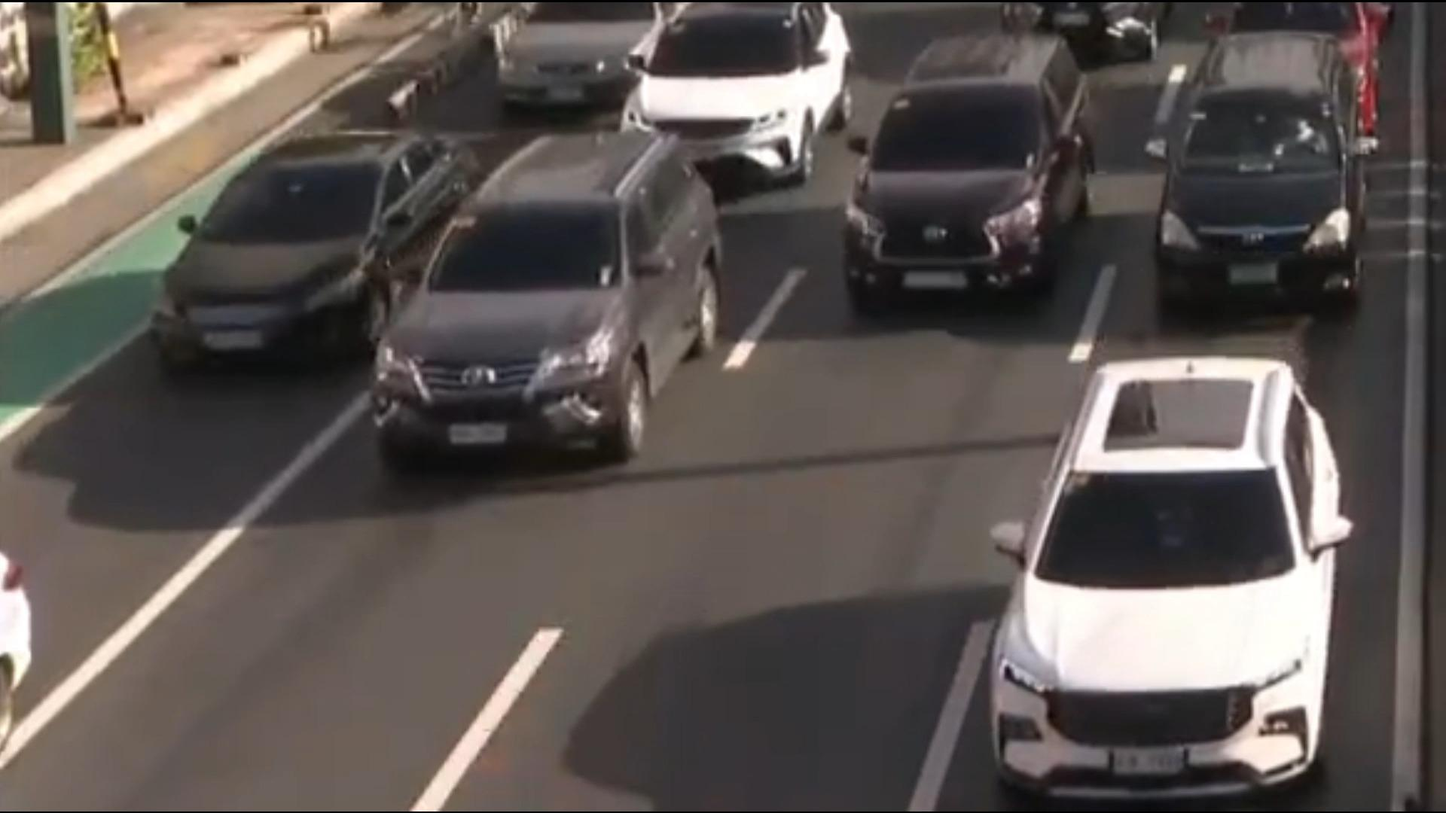SUV: (977, 362, 1397, 813), (332, 108, 772, 477), (819, 32, 1123, 306), (1149, 32, 1362, 315), (587, 0, 885, 200)
Sedan: (125, 98, 484, 392)
